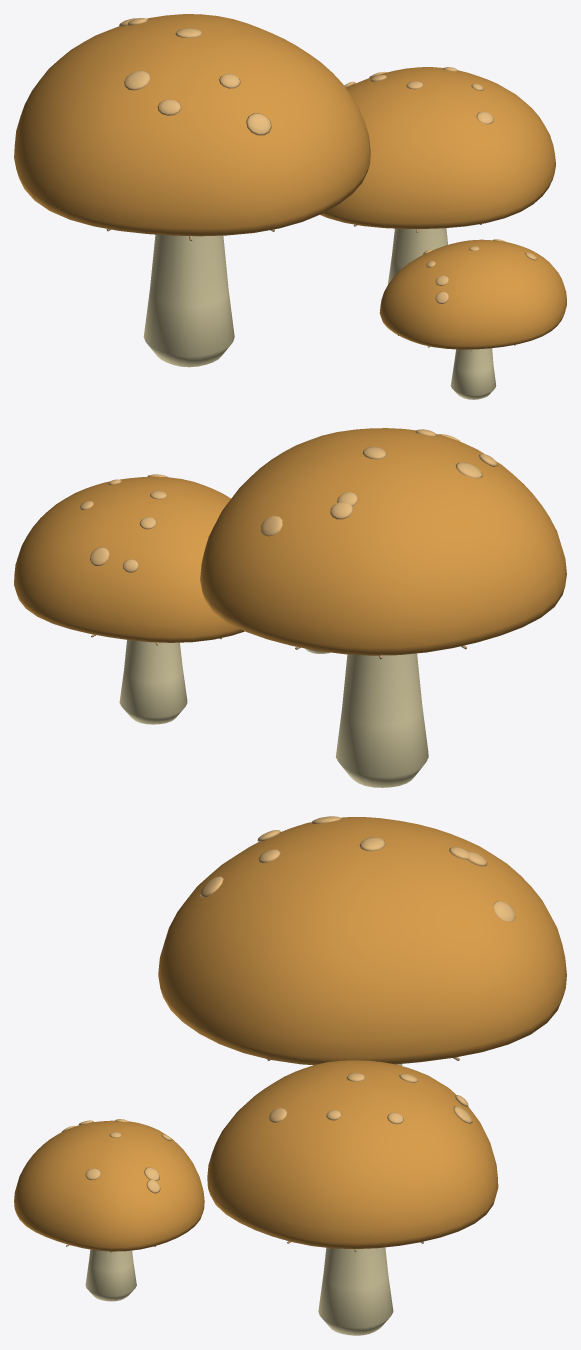
The model's file is SM_SF_MushroomCluster_02.fbx.
3 renders of one model, top to bottom at view 1: azimuth 30°, elevation 25°; view 2: azimuth 150°, elevation 25°; view 3: azimuth 270°, elevation 25°, orthographic. The views are drawn at different scales.
Parts seen in each view (by area): view 1: SM_SF_MushroomCluster_02; view 2: SM_SF_MushroomCluster_02; view 3: SM_SF_MushroomCluster_02.
Part boxes in pixels (x1,y1,x2,y2): SM_SF_MushroomCluster_02: (14,14,566,399); SM_SF_MushroomCluster_02: (14,428,566,787); SM_SF_MushroomCluster_02: (14,816,566,1335).
Bounding box in the file's own units: 1.64 × 1.38 × 0.9899.
